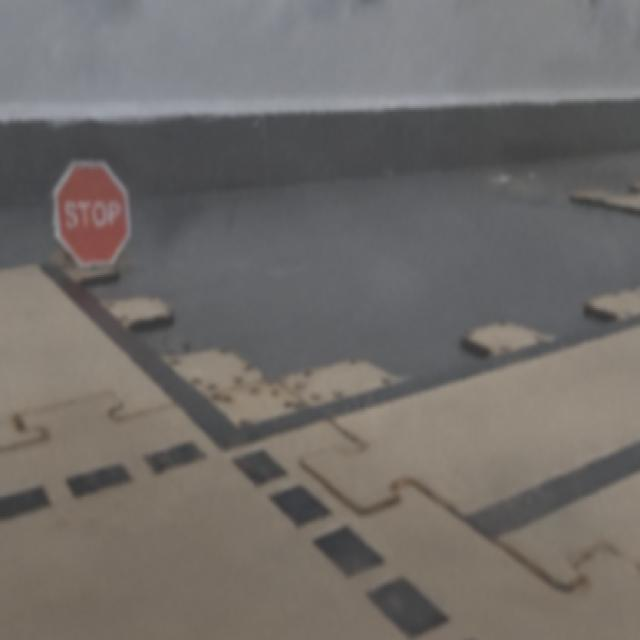STOP: (55, 161, 128, 264)
